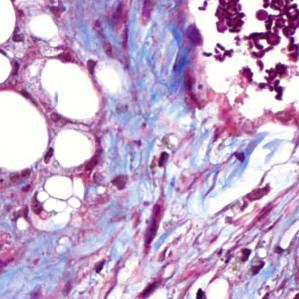steatosis: (52, 127, 99, 170)
